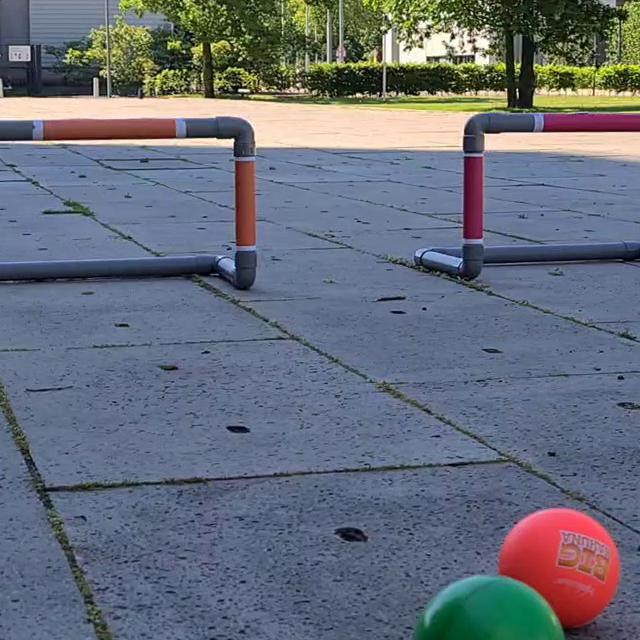ball: (412, 570, 566, 640)
